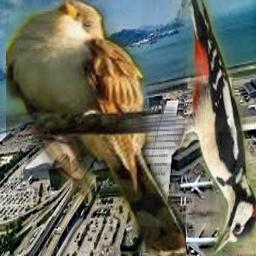Cuckoo: (6, 0, 186, 256)
Woodpecker: (166, 0, 256, 255)
